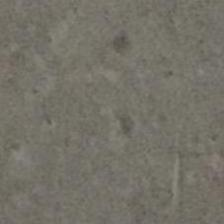Non_Crack: (8, 6, 217, 194)
